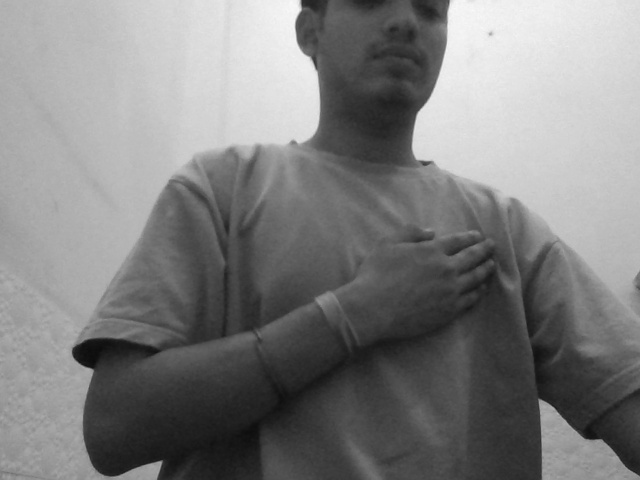Sorry: (286, 205, 546, 356)
